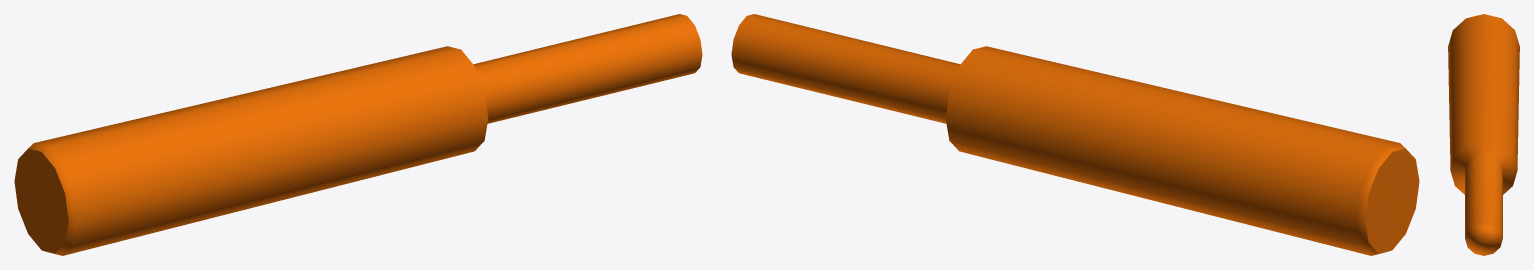
File: Door_Unlocked_A.fbx
The picture shows the model from 3 angles, left to right: view 1: azimuth 30°, elevation 25°; view 2: azimuth 150°, elevation 25°; view 3: azimuth 270°, elevation 25°; orthographic projection. The views are drawn at different scales.
Parts seen in each view (by area): view 1: Door_Unlocked_A; view 2: Door_Unlocked_A; view 3: Door_Unlocked_A.
Boxes of the visible parts, <box> form: Door_Unlocked_A: <box>14,14,702,255</box>; Door_Unlocked_A: <box>731,14,1419,255</box>; Door_Unlocked_A: <box>1448,14,1519,255</box>.
Size of the model in its own units: 67.93 by 10.62 by 10.62.
